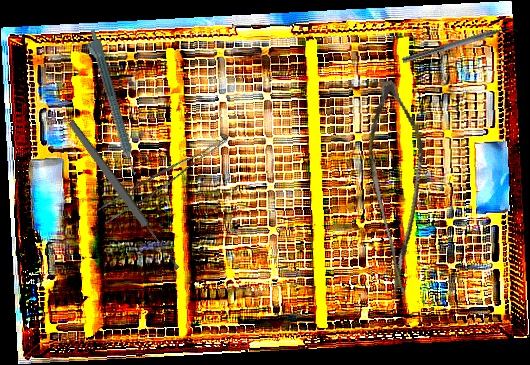Chopper: (401, 20, 521, 72)
Handpiece: (81, 28, 140, 178)
Micro Scissor: (341, 76, 458, 302)
Surgical Spoon: (66, 118, 182, 273)
Tissue Forceps: (96, 123, 229, 228)
